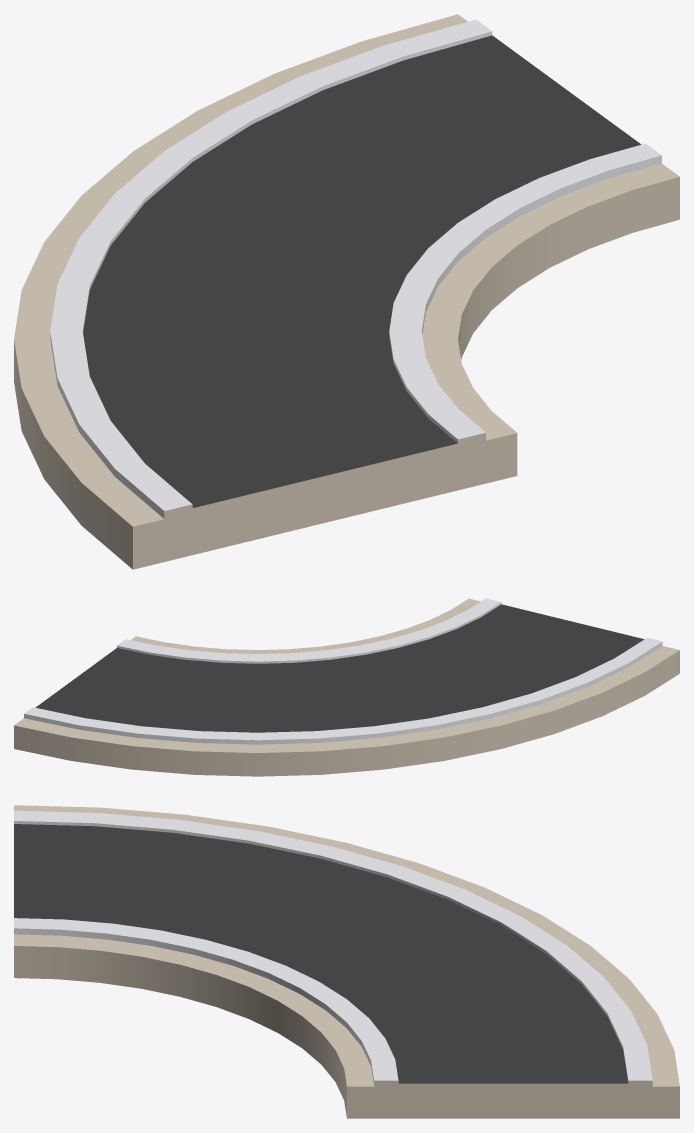
Rendered from roadCornerBridgeLarge.glb.
3 views of the same model, one above another, from view 1: azimuth 30°, elevation 25°; view 2: azimuth 150°, elevation 25°; view 3: azimuth 270°, elevation 25° (orthographic). The views are drawn at different scales.
Visible parts, largest first — view 1: roadCornerBridgeLarge(Clone); view 2: roadCornerBridgeLarge(Clone); view 3: roadCornerBridgeLarge(Clone).
Boxes of the visible parts, x1,y1,x2,y2 form: roadCornerBridgeLarge(Clone): (14,14,679,569); roadCornerBridgeLarge(Clone): (14,598,679,776); roadCornerBridgeLarge(Clone): (14,805,679,1118).
Bounding box in the file's own units: 2 × 0.1266 × 2.
